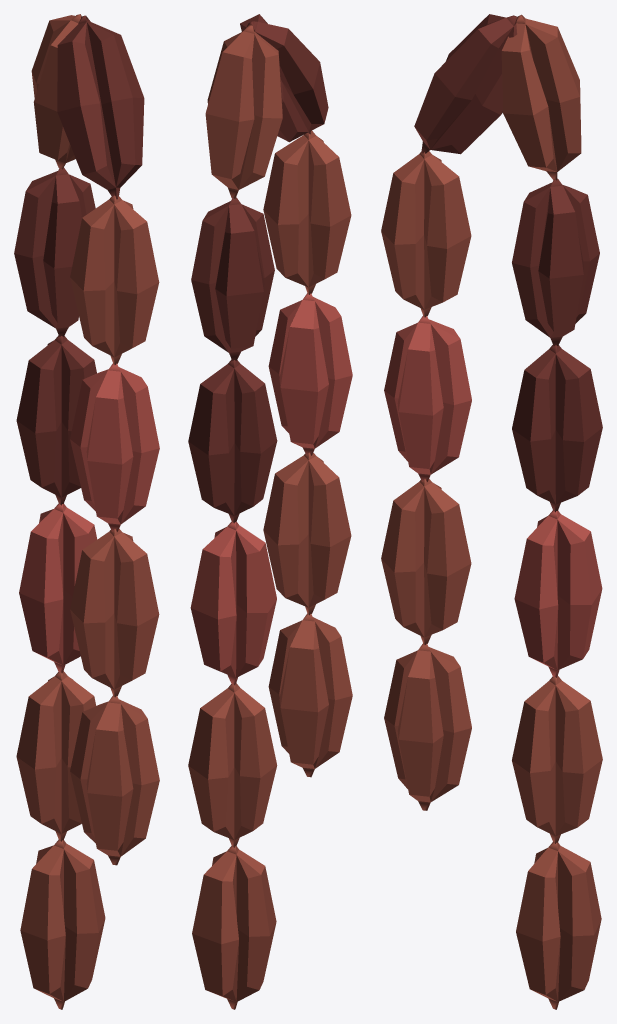
File: SM_Prop_Meat_Sausages_01.fbx
3 renders of one model, left to right at view 1: azimuth 30°, elevation 25°; view 2: azimuth 150°, elevation 25°; view 3: azimuth 270°, elevation 25°, orthographic. The views are drawn at different scales.
Visible parts, largest first — view 1: SM_Prop_Meat_Sausages_01; view 2: SM_Prop_Meat_Sausages_01; view 3: SM_Prop_Meat_Sausages_01.
Part boxes in pixels (<box>): SM_Prop_Meat_Sausages_01: <box>14,14,159,1009</box>; SM_Prop_Meat_Sausages_01: <box>188,14,352,1009</box>; SM_Prop_Meat_Sausages_01: <box>381,14,602,1009</box>.
Size of the model in its own units: 12.3 by 134 by 27.04.
